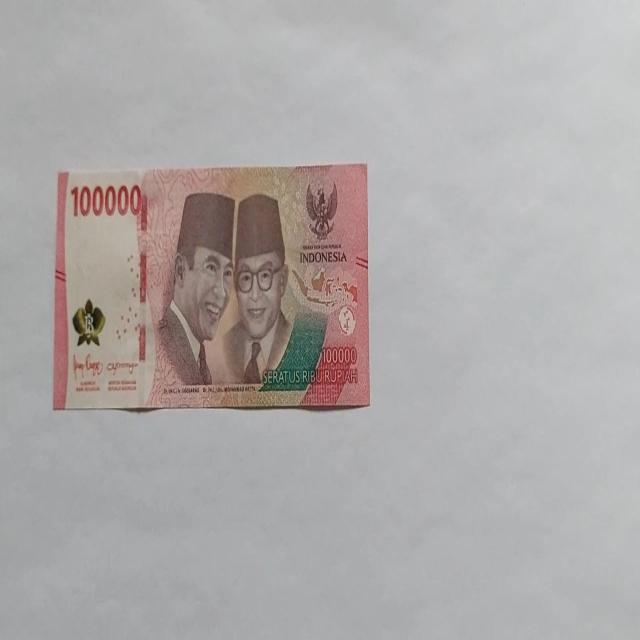Kertas: (53, 162, 371, 412)
